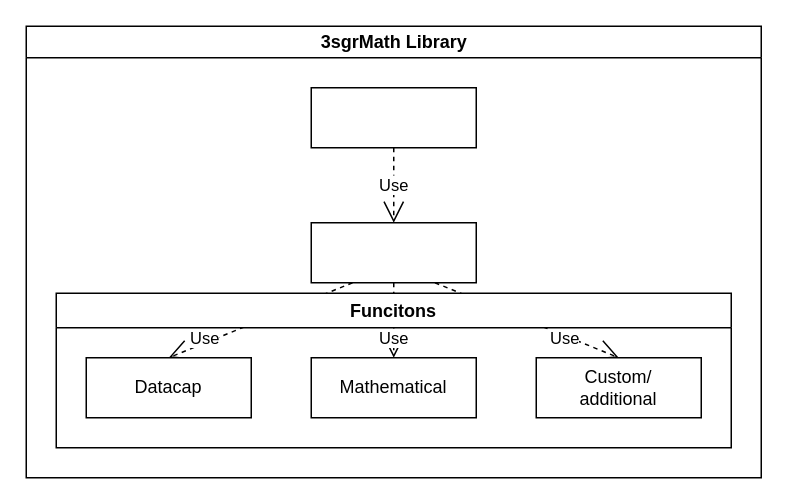
Image size: 788x504. Some labels were removed from this diagram. Each missing label, with the centre of its shape:
"Custom Actions" goes at (393,117).
"Formula Processor" goes at (393,252).
